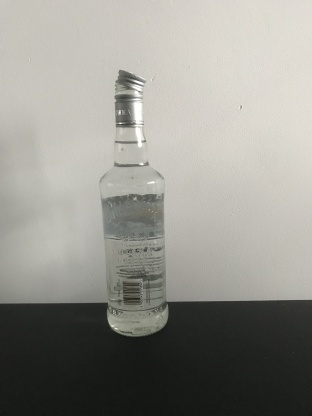nakretka: (113, 67, 147, 128)
